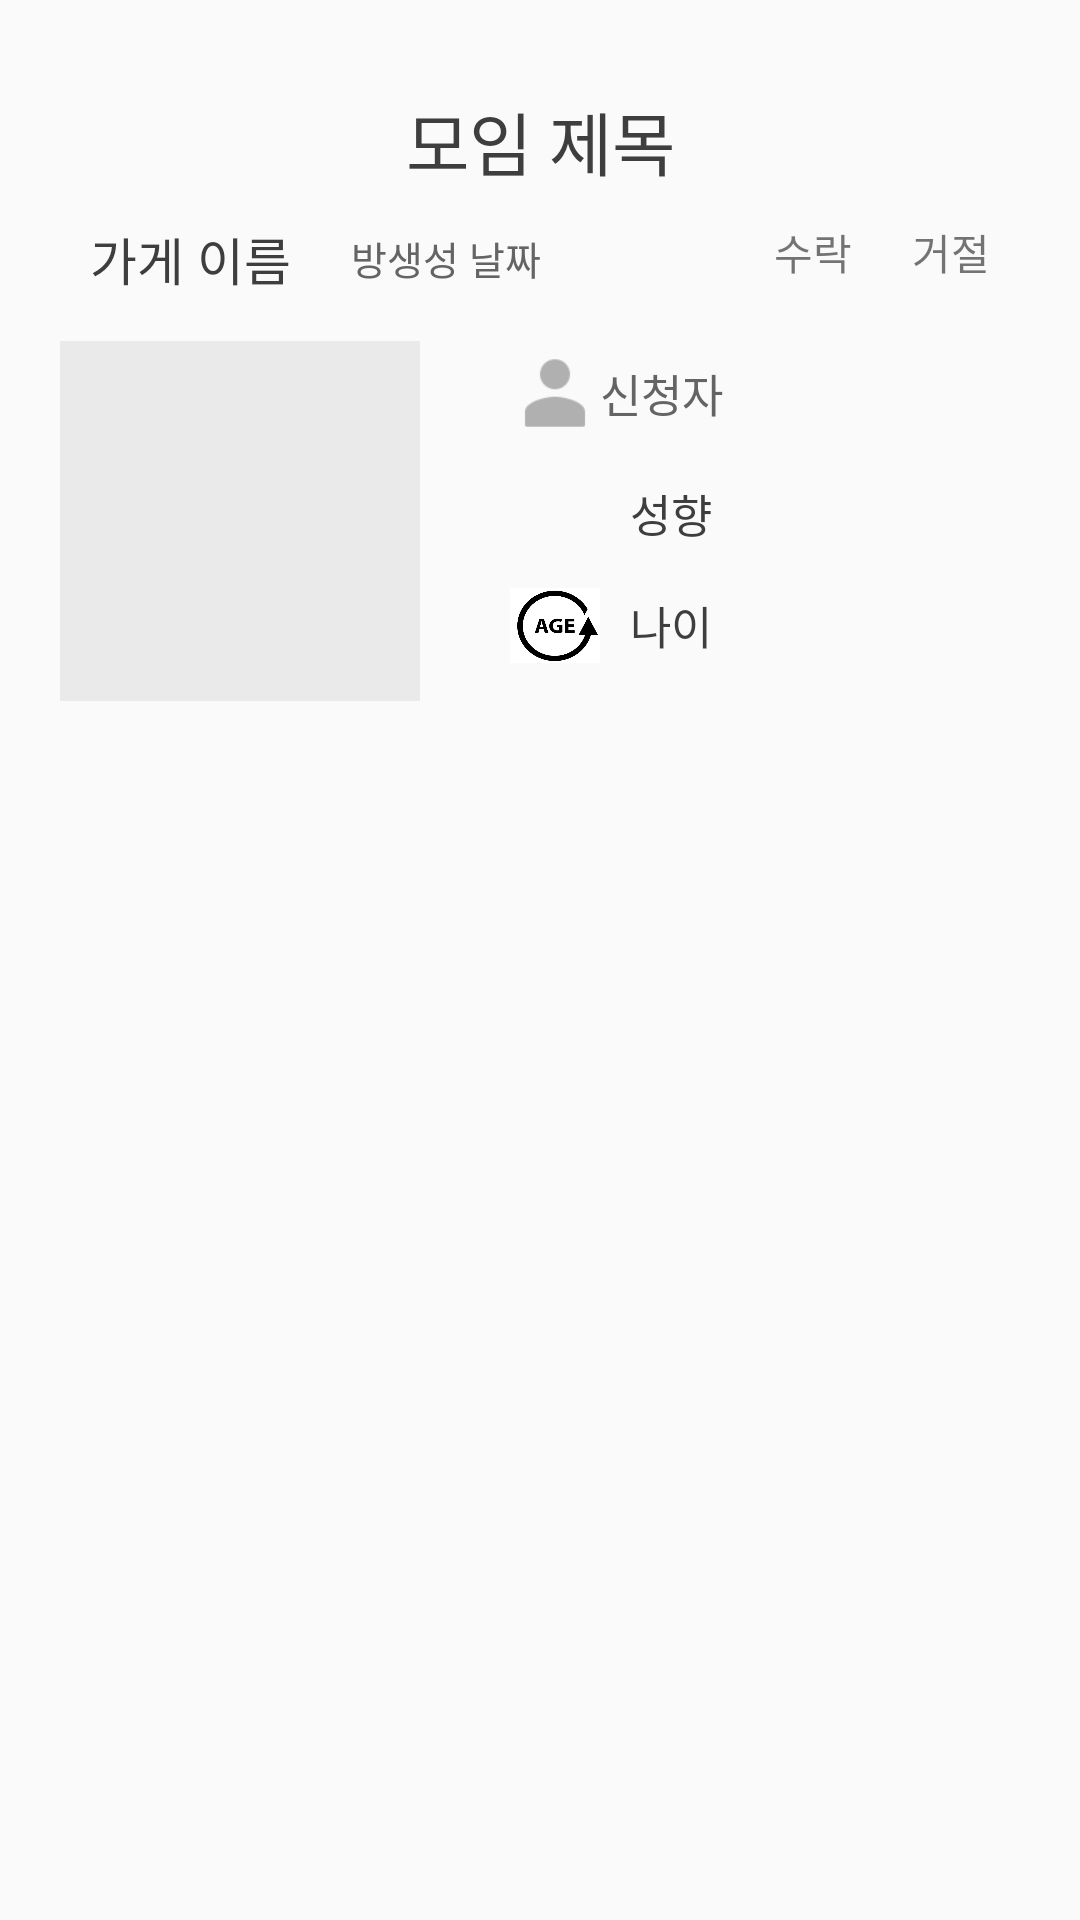

Where icons sit on this 1080*1920 app screen, as (x1, y1, x2, y2):
mypage: (525, 359, 585, 427)
